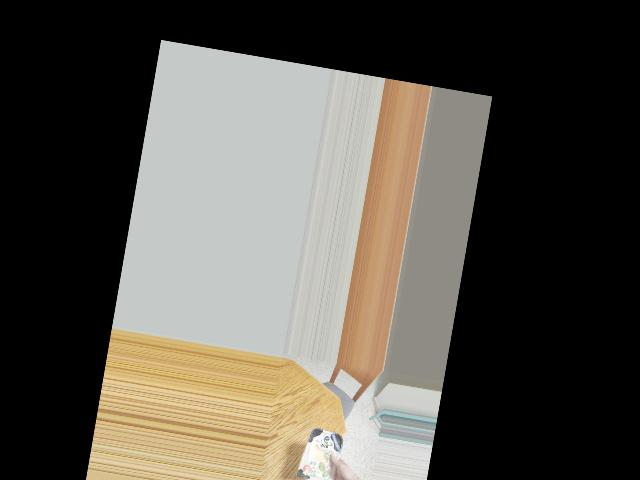cheese: (300, 428, 344, 480)
